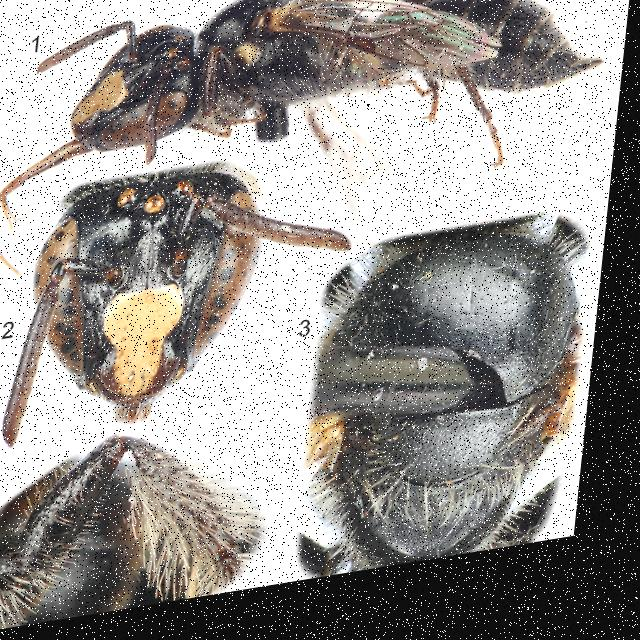Braunsapis: (289, 202, 617, 596), (30, 0, 611, 186), (4, 155, 294, 440), (0, 417, 255, 635)
